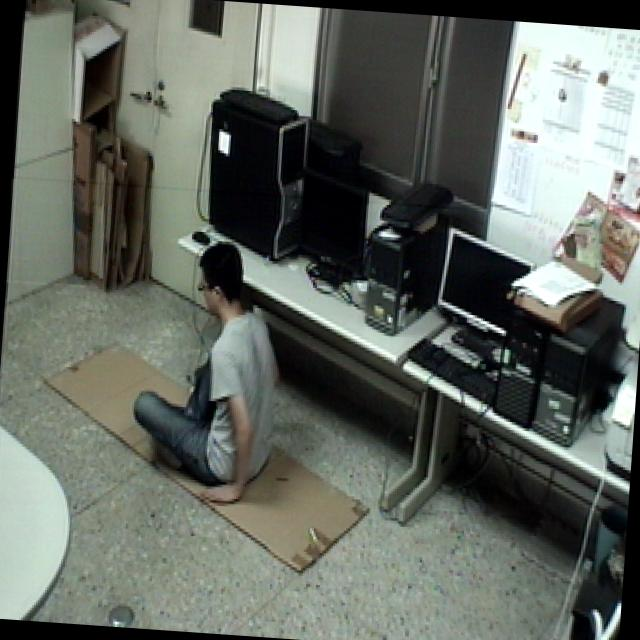sit: (123, 229, 300, 519)
